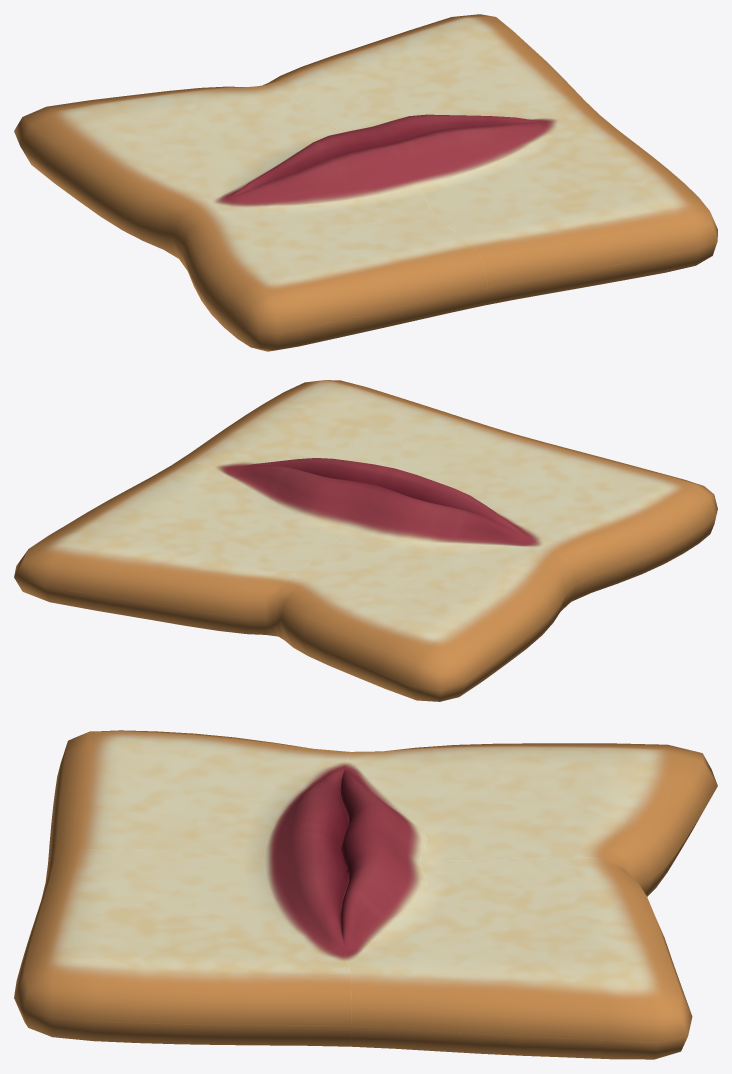
The model's file is breadmouth.glb.
The picture shows the model from 3 angles, top to bottom: view 1: azimuth 30°, elevation 25°; view 2: azimuth 150°, elevation 25°; view 3: azimuth 270°, elevation 25°; orthographic projection. The views are drawn at different scales.
Visible parts, largest first — view 1: Bread&Mouth; view 2: Bread&Mouth; view 3: Bread&Mouth.
Boxes of the visible parts, x1,y1,x2,y2 form: Bread&Mouth: (14,14,717,351); Bread&Mouth: (14,380,717,701); Bread&Mouth: (14,730,717,1059).
Bounding box in the file's own units: 828 × 136 × 845.
Materials: 1 (1 with a texture image).
